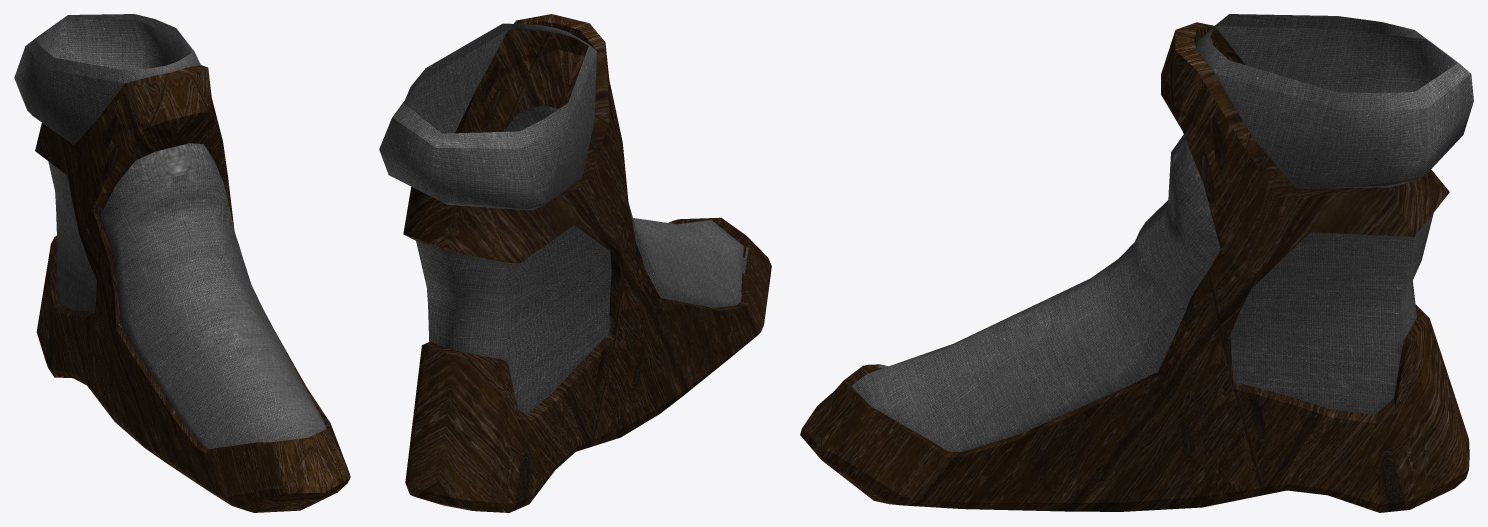
Rendered from linen_shoes.glb.
3 views of the same model, side by side, from view 1: azimuth 30°, elevation 25°; view 2: azimuth 150°, elevation 25°; view 3: azimuth 270°, elevation 25° (orthographic). The views are drawn at different scales.
Parts seen in each view (by area): view 1: linen_shoes; view 2: linen_shoes; view 3: linen_shoes.
Boxes of the visible parts, bbox=[...] form: linen_shoes: bbox=[14, 14, 350, 512]; linen_shoes: bbox=[379, 14, 771, 512]; linen_shoes: bbox=[800, 14, 1473, 512].
Bounding box in the file's own units: 0.0844 × 0.1993 × 0.2703.
Materials: 1 (1 with a texture image).
